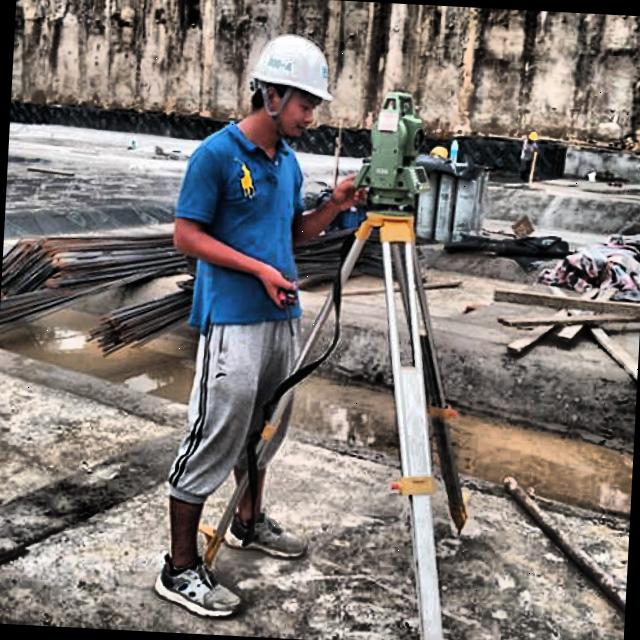helmet: (245, 26, 340, 146)
